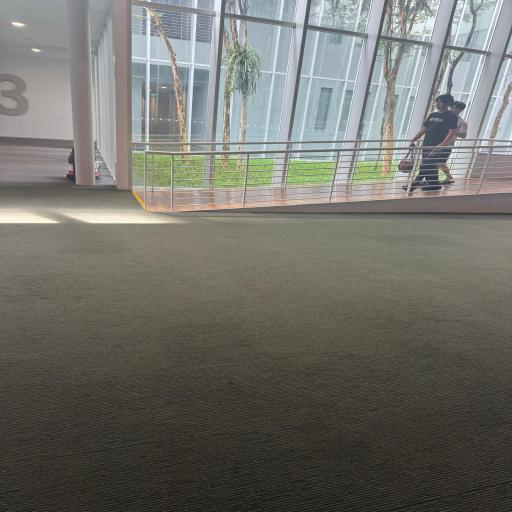person_left: (397, 94, 459, 192), (437, 102, 468, 185)
